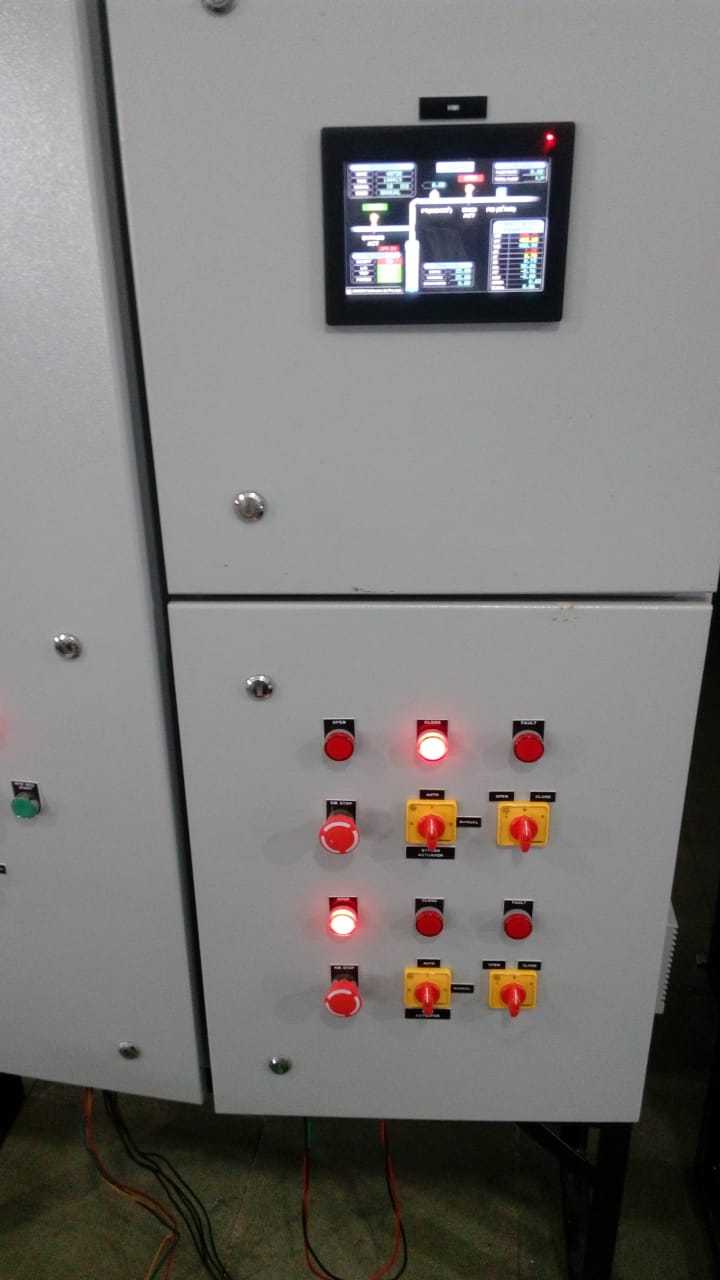Red_Led_Off: (307, 710, 375, 773), (502, 709, 560, 773), (488, 893, 554, 949), (404, 892, 456, 945)
Red_Led_On: (313, 889, 377, 952), (402, 709, 461, 770)
